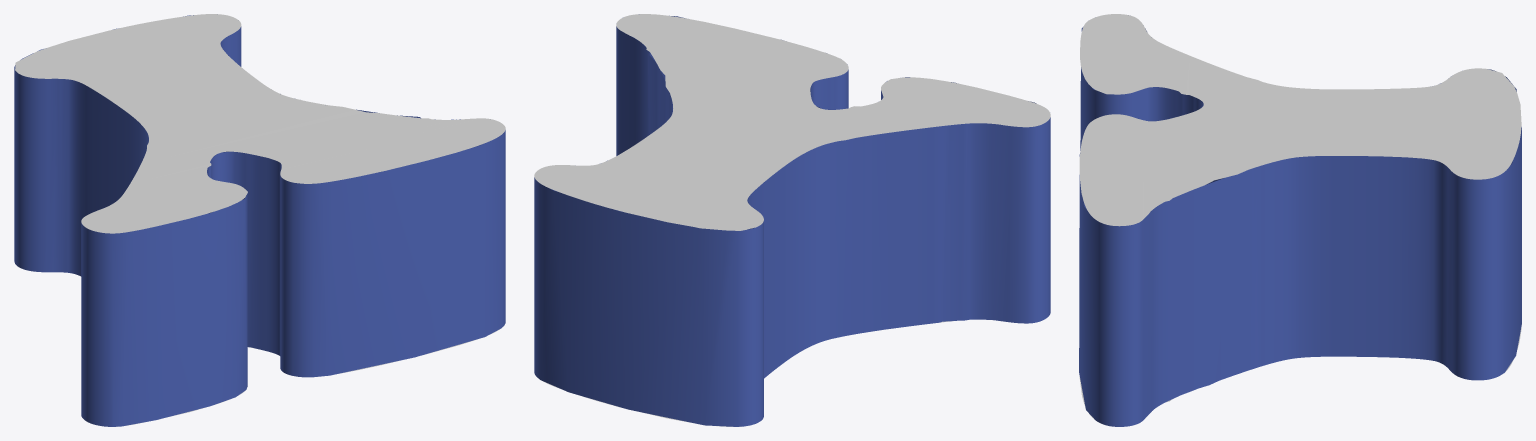
3 views of the same model, side by side, from view 1: azimuth 30°, elevation 25°; view 2: azimuth 150°, elevation 25°; view 3: azimuth 270°, elevation 25° (orthographic). The views are drawn at different scales.
Parts seen in each view (by area): view 1: Y; view 2: Y; view 3: Y.
Part boxes in pixels (<box>): Y: <box>14,14,505,426</box>; Y: <box>534,14,1050,426</box>; Y: <box>1079,14,1521,426</box>.
Bounding box in the file's own units: 1.67 × 0.7363 × 1.47.
